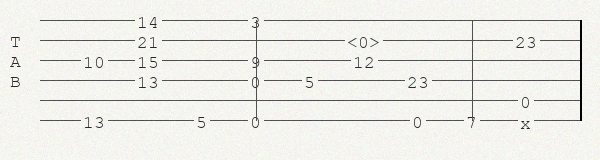0: (250, 73, 265, 88), (250, 113, 265, 128), (412, 113, 427, 128), (520, 93, 535, 108)
10: (83, 53, 109, 68)
12: (353, 53, 379, 68)
13: (83, 113, 109, 128), (137, 73, 163, 88)
14: (137, 13, 163, 28)
15: (137, 53, 163, 68)
21: (137, 33, 163, 48)
23: (407, 73, 433, 88), (515, 33, 541, 48)
3: (250, 13, 265, 28)
5: (196, 113, 211, 128), (304, 73, 319, 88)
7: (466, 113, 481, 128)
9: (250, 53, 265, 68)
harmonic: (347, 33, 384, 48)
x: (520, 114, 535, 126)
